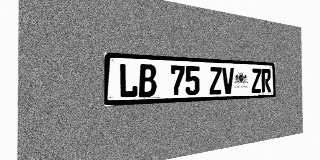5: (185, 66, 200, 96)
7: (170, 65, 185, 96)
B: (139, 64, 156, 97)
L: (119, 63, 138, 98)
R: (262, 69, 271, 93)
V: (222, 67, 234, 94)
Z: (209, 67, 222, 95), (251, 68, 261, 93)
